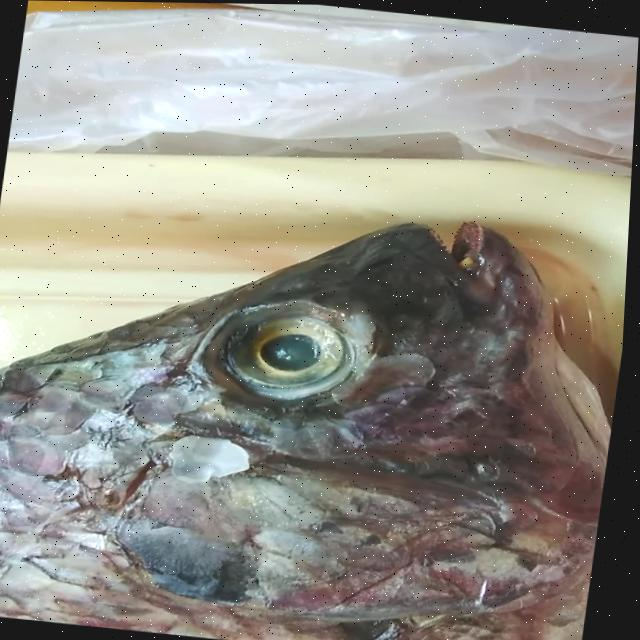Non-Fresh: (0, 384, 615, 640), (196, 280, 379, 415)
